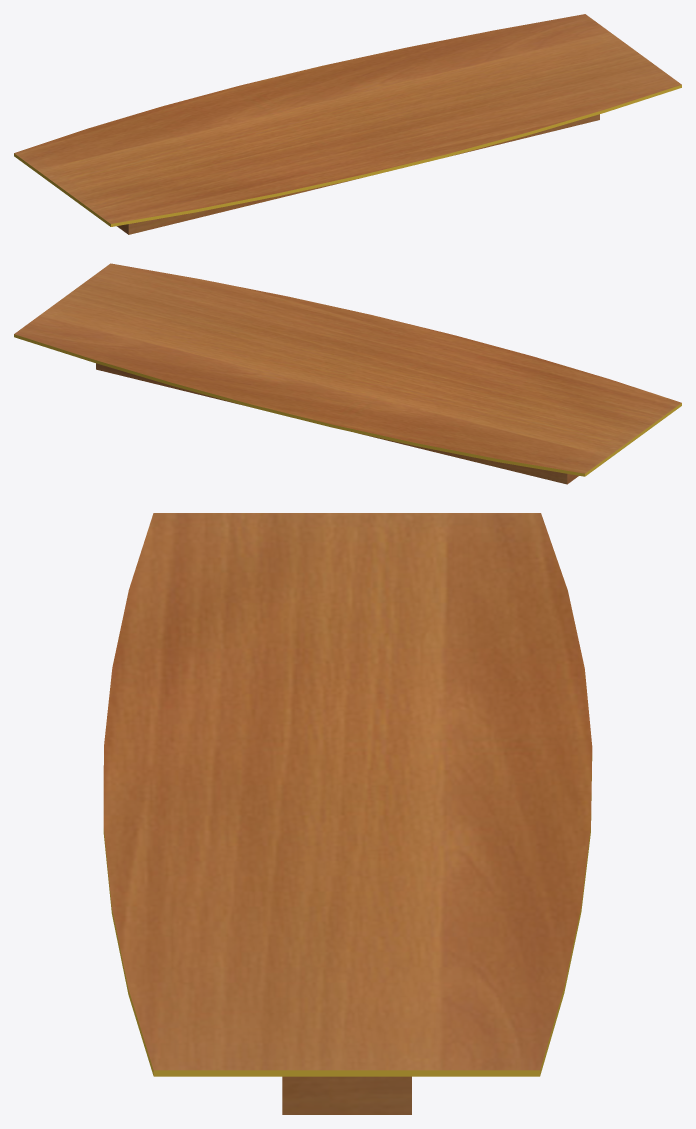
Rendered from FUR0210079.fbx.
The picture shows the model from 3 angles, top to bottom: view 1: azimuth 30°, elevation 25°; view 2: azimuth 150°, elevation 25°; view 3: azimuth 270°, elevation 25°; orthographic projection. The views are drawn at different scales.
Parts seen in each view (by area): view 1: smFUR0210079; view 2: smFUR0210079; view 3: smFUR0210079.
Boxes of the visible parts, x1,y1,x2,y2 form: smFUR0210079: (14,14,681,234); smFUR0210079: (14,263,681,484); smFUR0210079: (103,513,592,1114).
Bounding box in the file's own units: 1164 × 90.82 × 431.
Materials: 1 (1 with a texture image).
